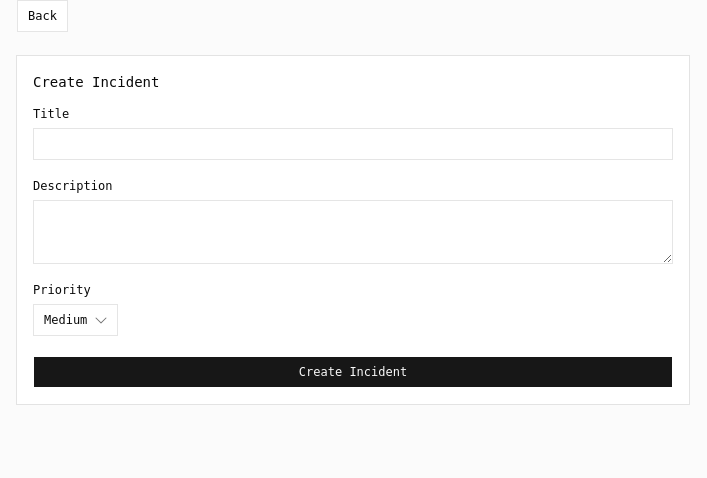
Test: CreateIncidentPage › shows validation errors when submitting empty form
Click the button "Create Incident" at {"x": 353, "y": 372}, box [33,356,673,388]
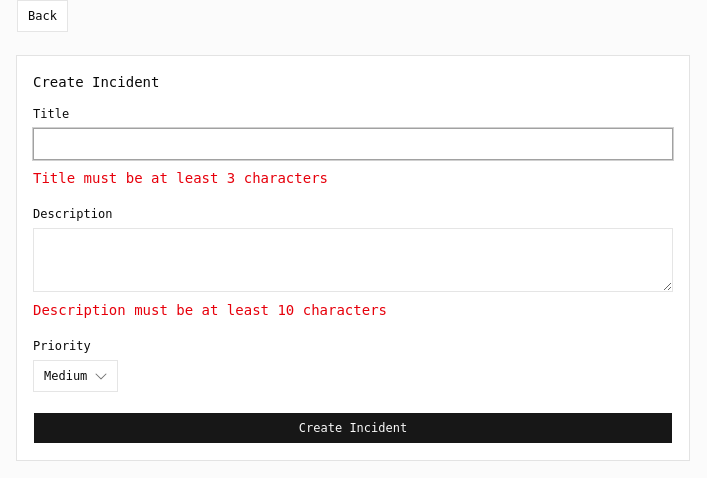
Expected: the text "Description must be at least 10 characters" is shown, [33,302,387,318]
